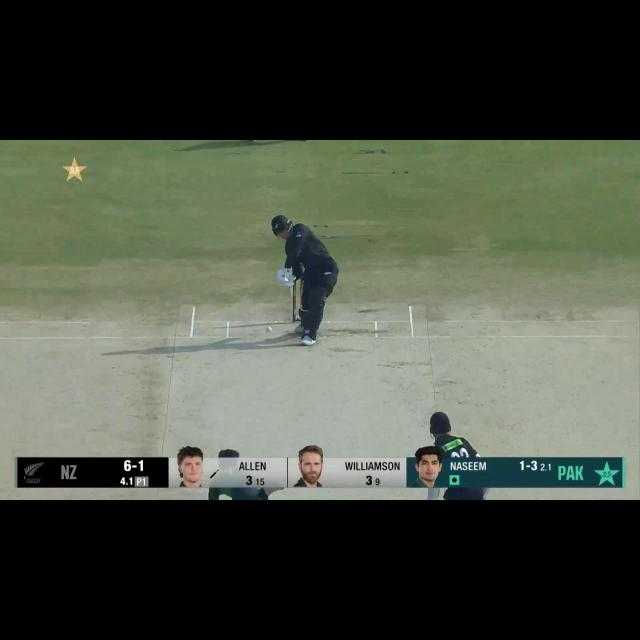bat: (288, 284, 295, 298)
